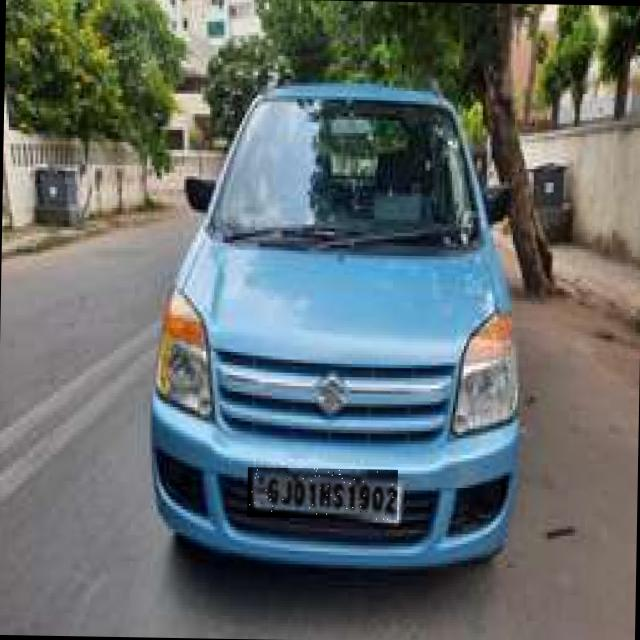Plate: (248, 468, 399, 521)
